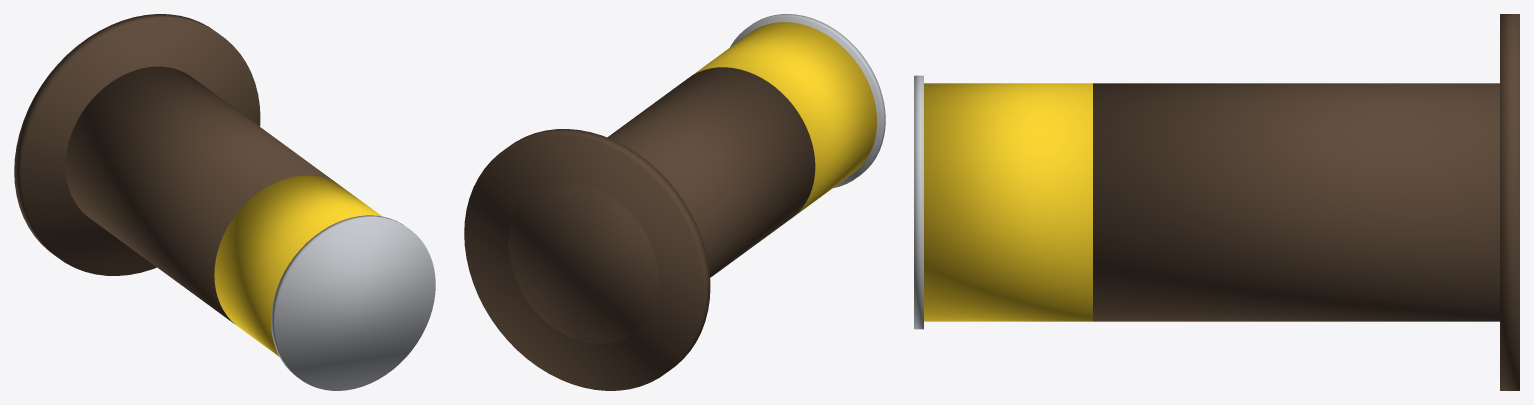
The model's file is column_0.obj.
The picture shows the model from 3 angles, left to right: view 1: azimuth 30°, elevation 25°; view 2: azimuth 150°, elevation 25°; view 3: azimuth 270°, elevation 25°; orthographic projection. The views are drawn at different scales.
Parts seen in each view (by area): view 1: column_0; view 2: column_0; view 3: column_0.
Boxes of the visible parts, x1,y1,x2,y2 form: column_0: [14, 14, 435, 390]; column_0: [464, 14, 885, 390]; column_0: [914, 14, 1519, 390].
Bounding box in the file's own units: 19 × 19 × 30.5.
